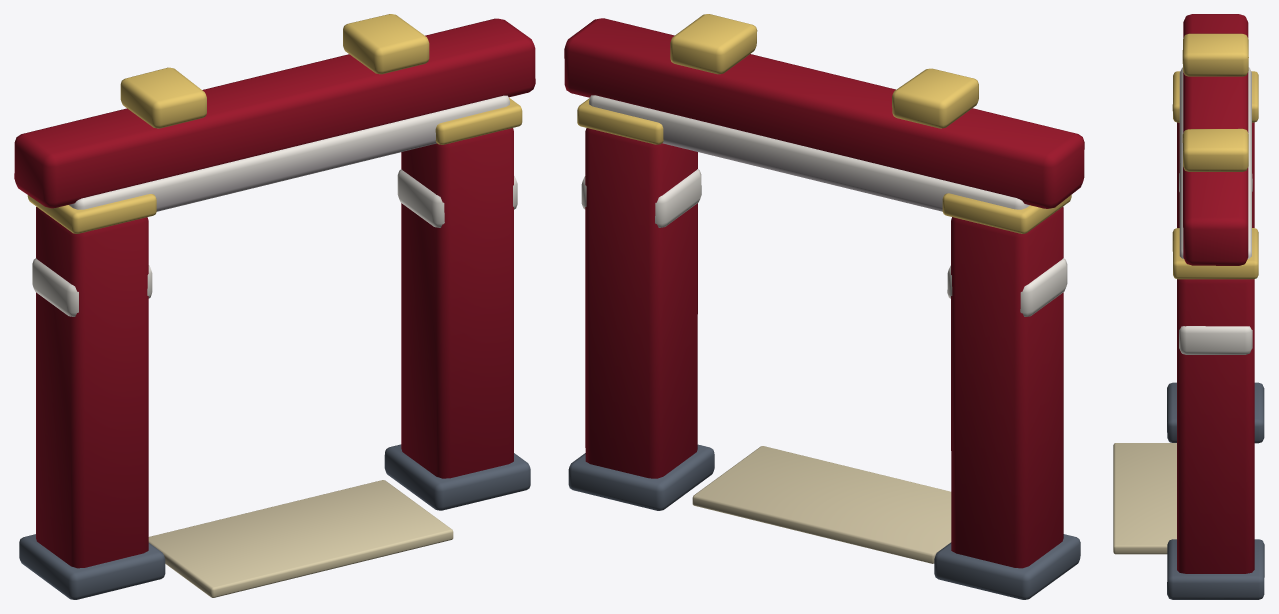
3 views of the same model, side by side, from view 1: azimuth 30°, elevation 25°; view 2: azimuth 150°, elevation 25°; view 3: azimuth 270°, elevation 25° (orthographic). The views are drawn at different scales.
Parts seen in each view (by area): view 1: gate_21731bc3; view 2: gate_21731bc3; view 3: gate_21731bc3.
Part boxes in pixels (x1,y1,x2,y2): gate_21731bc3: (14,14,535,599); gate_21731bc3: (564,14,1084,599); gate_21731bc3: (1113,14,1264,599).
Size of the model in its own units: 4.88 by 4.45 by 1.48.
